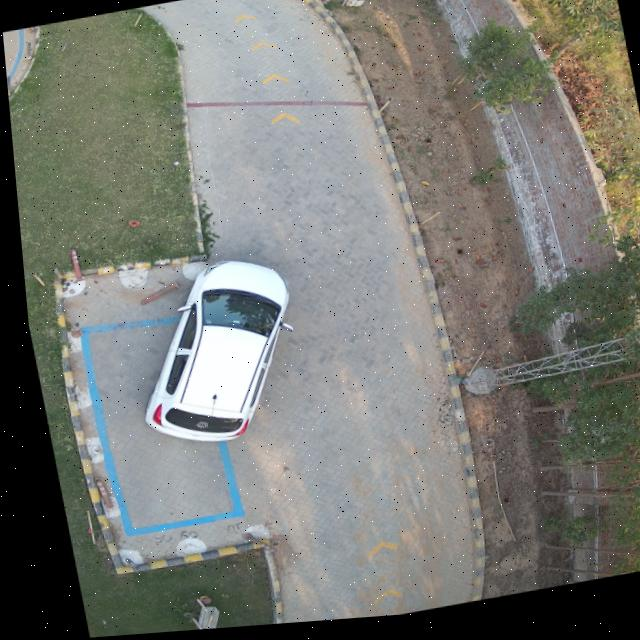car: (133, 264, 280, 446)
